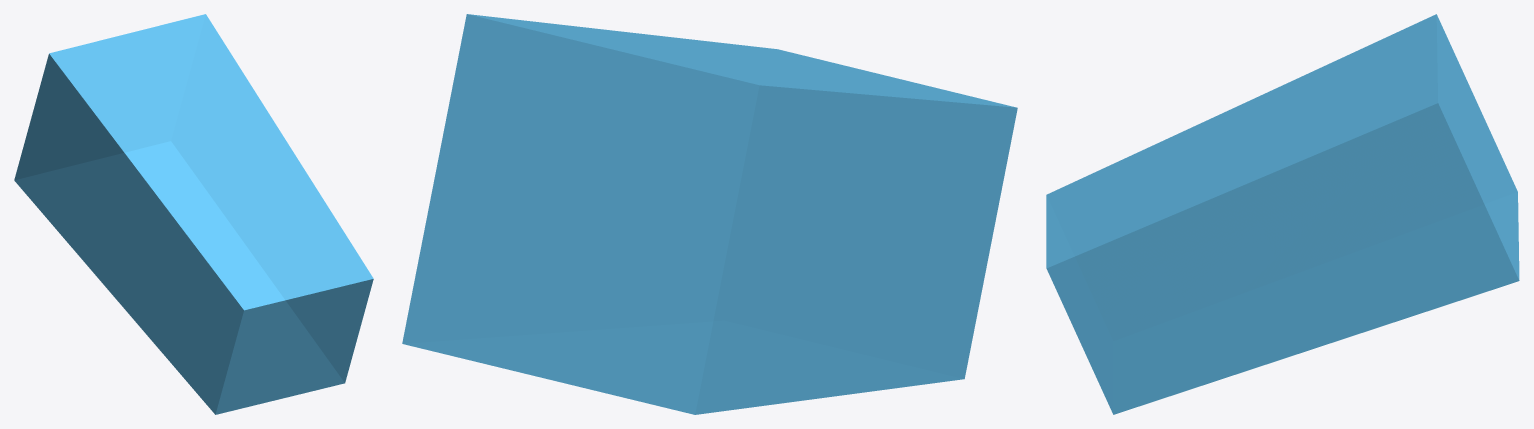
File: Event_421364160_HBrechit_1.fbx
3 views of the same model, side by side, from view 1: azimuth 30°, elevation 25°; view 2: azimuth 150°, elevation 25°; view 3: azimuth 270°, elevation 25° (orthographic). The views are drawn at different scales.
Visible parts, largest first — view 1: Model; view 2: Model; view 3: Model.
Boxes of the visible parts, bbox=[...] form: Model: bbox=[14, 14, 373, 414]; Model: bbox=[402, 14, 1017, 414]; Model: bbox=[1046, 14, 1519, 414].
Size of the model in its own units: 0.4872 by 0.7906 by 1.09.
